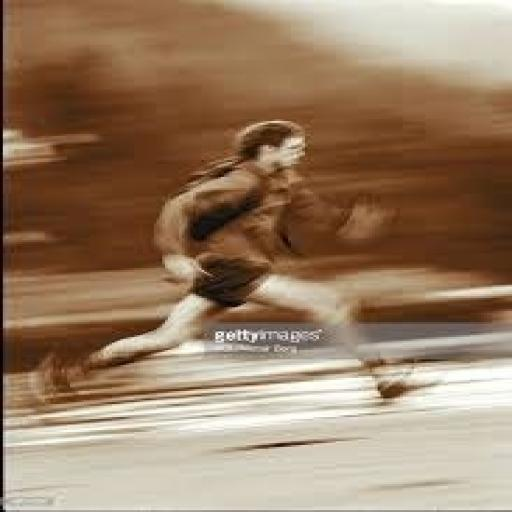running: (34, 117, 509, 406)
